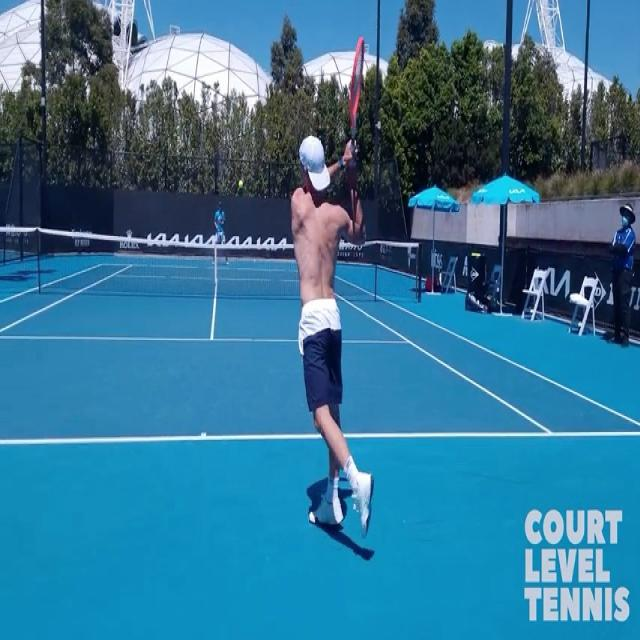backhand-finish: (289, 31, 379, 558)
